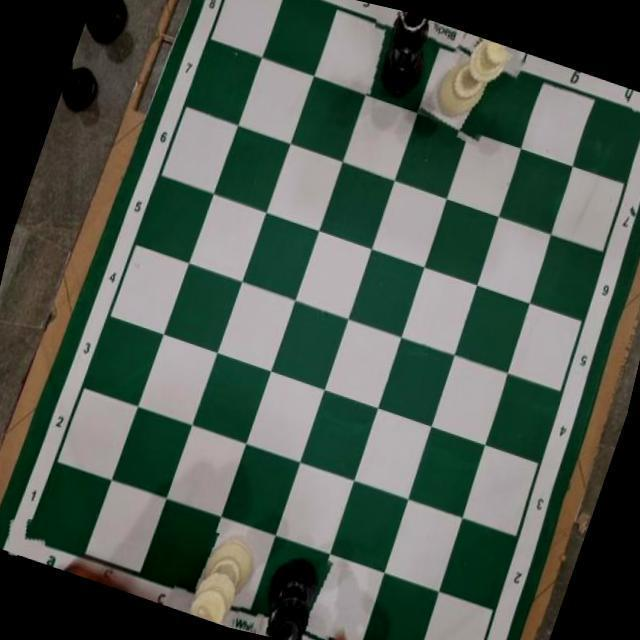chess-table-corners: (2, 513, 50, 561), (627, 92, 640, 129)
